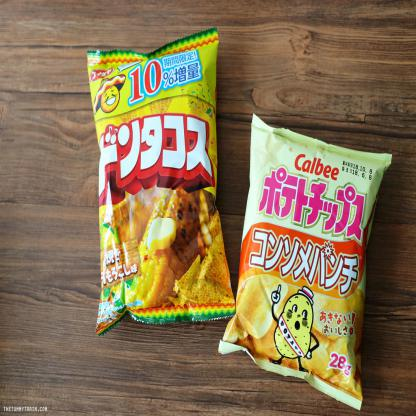potatochip: (219, 112, 398, 415), (82, 20, 240, 342)
